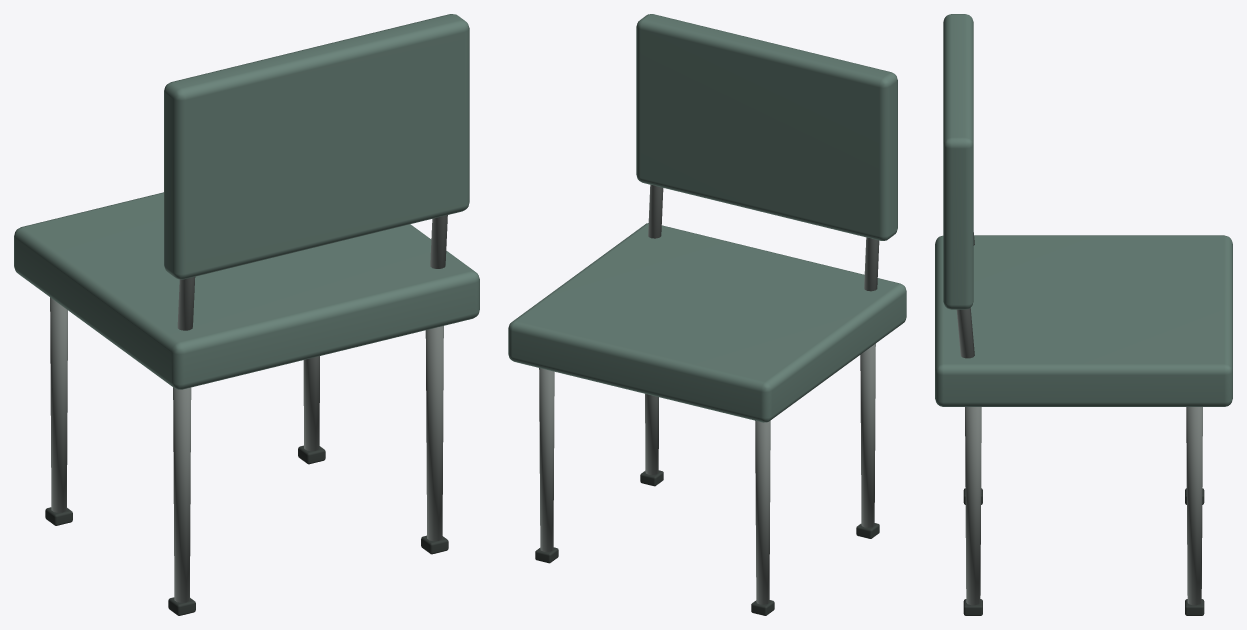
Rendered from chair.glb.
3 views of the same model, side by side, from view 1: azimuth 30°, elevation 25°; view 2: azimuth 150°, elevation 25°; view 3: azimuth 270°, elevation 25° (orthographic). The views are drawn at different scales.
Visible parts, largest first — view 1: Back, Seat, Leg.001, Leg.003, Leg, Leg.002, BackFrame, BackFrame.001; view 2: Seat, Back, Leg, Leg.002, Leg.001, Leg.003, BackFrame.001, BackFrame; view 3: Seat, Back, Leg.002, Leg.003, BackFrame.001.
Boxes of the visible parts, x1,y1,x2,y2 form: Back: [164, 14, 469, 279]; Seat: [14, 192, 479, 389]; Leg.001: [173, 387, 191, 602]; Leg.003: [425, 326, 443, 541]; Leg: [50, 297, 67, 512]; Leg.002: [303, 356, 319, 451]; BackFrame: [177, 277, 195, 330]; BackFrame.001: [430, 215, 447, 268]; Seat: [508, 223, 906, 422]; Back: [636, 14, 897, 240]; Leg: [755, 420, 770, 604]; Leg.002: [539, 368, 554, 551]; Leg.001: [860, 343, 875, 527]; Leg.003: [645, 394, 658, 474]; BackFrame.001: [648, 184, 663, 238]; BackFrame: [864, 237, 879, 291]; Seat: [935, 235, 1232, 406]; Back: [943, 14, 973, 309]; Leg.002: [1186, 407, 1202, 605]; Leg.003: [965, 407, 981, 605]; BackFrame.001: [956, 308, 974, 358].
Bounding box in the file's own units: 0.45 × 0.7485 × 0.42.
